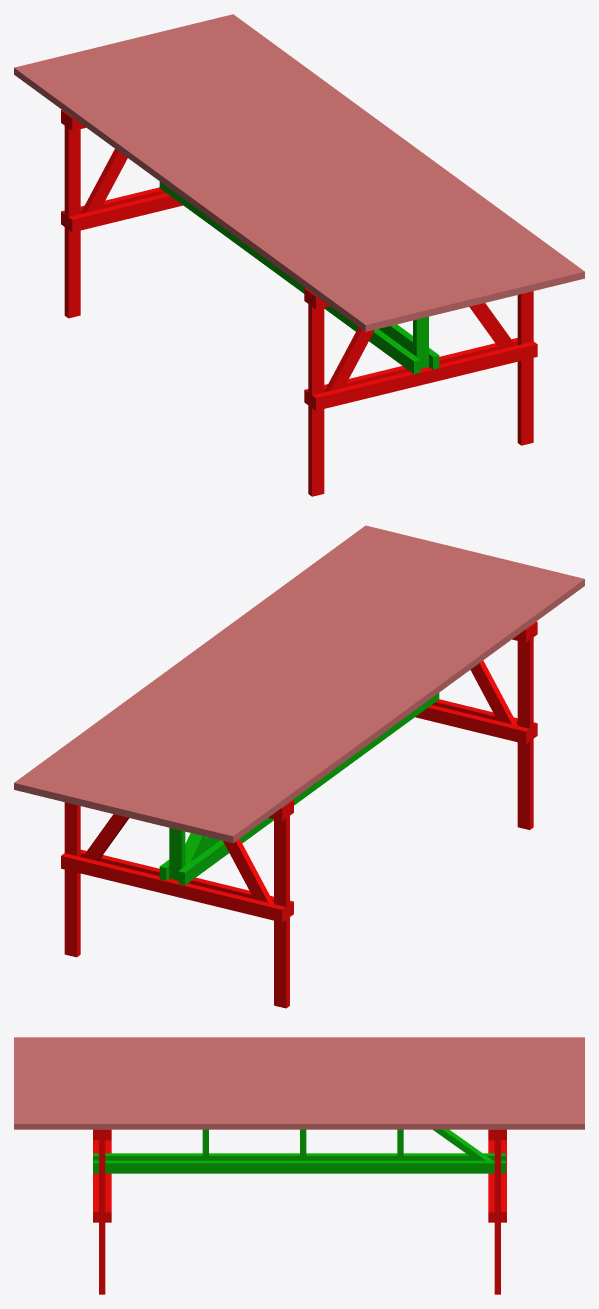
Rendered from result.glb.
3 views of the same model, one above another, from view 1: azimuth 30°, elevation 25°; view 2: azimuth 150°, elevation 25°; view 3: azimuth 270°, elevation 25° (orthographic). The views are drawn at different scales.
Visible parts, largest first — view 1: 5b5166a3-56cd-4252-9c86-ea0e06d2deec__Box, 6b45523d-2ed0-4708-9197-683f7d70f63e__undefined, 34135407-0bfd-4c22-b547-a4d0871ca563__undefined, 840a7245-6c75-4540-a6f2-1c2aac128855__undefined, b8811d37-f30e-48a0-ac2a-83d1932c9559__undefined, dd336ed4-5bf3-4410-842b-64d03da9f8a5__undefined, 2ae7d6b2-e6e8-489f-9129-77a260470783__undefined, 1afcaf74-240f-4f5e-94c8-39c9f8957b6c__undefined, 45c0e035-0442-42fb-a9a9-16f428242cf4__undefined, 5a2705e8-5dbb-4cc0-a018-b41e9aaeaff9__undefined, dfaa50bc-1c0a-43a4-9fd6-566c21eb1296__undefined, a3fc1de9-2959-485e-9653-fc8354d938ee__undefined (+18 smaller); view 2: 5b5166a3-56cd-4252-9c86-ea0e06d2deec__Box, dd336ed4-5bf3-4410-842b-64d03da9f8a5__undefined, dfaa50bc-1c0a-43a4-9fd6-566c21eb1296__undefined, 1afcaf74-240f-4f5e-94c8-39c9f8957b6c__undefined, 34135407-0bfd-4c22-b547-a4d0871ca563__undefined, b7eaf2cc-1c60-41af-b675-b557e6b92fe1__undefined, a3fc1de9-2959-485e-9653-fc8354d938ee__undefined, 2ae7d6b2-e6e8-489f-9129-77a260470783__undefined, 1926aa3f-db3e-4172-baf5-febe0cec9031__undefined, eb4a14b6-cc9e-427f-96b9-8b163eb1fb27__undefined, 7c2dc897-2e4b-4bca-a10d-7e80cdee631f__undefined, 5a2705e8-5dbb-4cc0-a018-b41e9aaeaff9__undefined (+17 smaller); view 3: 6b45523d-2ed0-4708-9197-683f7d70f63e__undefined, e4192ee4-b604-404b-b3cf-d612c6f6c943__strutH, dd336ed4-5bf3-4410-842b-64d03da9f8a5__undefined, dfaa50bc-1c0a-43a4-9fd6-566c21eb1296__undefined, eb4a14b6-cc9e-427f-96b9-8b163eb1fb27__undefined, 1afcaf74-240f-4f5e-94c8-39c9f8957b6c__undefined, 34135407-0bfd-4c22-b547-a4d0871ca563__undefined, 840a7245-6c75-4540-a6f2-1c2aac128855__undefined, b7eaf2cc-1c60-41af-b675-b557e6b92fe1__undefined, 5a2705e8-5dbb-4cc0-a018-b41e9aaeaff9__undefined, 4ff9c017-9dbe-4b74-8569-14915d633b3f__strutH, 5b5166a3-56cd-4252-9c86-ea0e06d2deec__Box (+15 smaller).
Part boxes in pixels (left/top/right/bottom): 5b5166a3-56cd-4252-9c86-ea0e06d2deec__Box: left=14, top=65, right=377, bottom=331; 6b45523d-2ed0-4708-9197-683f7d70f63e__undefined: left=221, top=14, right=584, bottom=281; 34135407-0bfd-4c22-b547-a4d0871ca563__undefined: left=136, top=35, right=499, bottom=301; 840a7245-6c75-4540-a6f2-1c2aac128855__undefined: left=185, top=23, right=548, bottom=290; b8811d37-f30e-48a0-ac2a-83d1932c9559__undefined: left=38, top=59, right=402, bottom=325; dd336ed4-5bf3-4410-842b-64d03da9f8a5__undefined: left=51, top=56, right=414, bottom=322; 2ae7d6b2-e6e8-489f-9129-77a260470783__undefined: left=87, top=47, right=450, bottom=313; 1afcaf74-240f-4f5e-94c8-39c9f8957b6c__undefined: left=124, top=38, right=487, bottom=305; 45c0e035-0442-42fb-a9a9-16f428242cf4__undefined: left=173, top=26, right=536, bottom=293; 5a2705e8-5dbb-4cc0-a018-b41e9aaeaff9__undefined: left=209, top=17, right=572, bottom=284; dfaa50bc-1c0a-43a4-9fd6-566c21eb1296__undefined: left=63, top=53, right=426, bottom=319; a3fc1de9-2959-485e-9653-fc8354d938ee__undefined: left=75, top=50, right=438, bottom=316; 5b5166a3-56cd-4252-9c86-ea0e06d2deec__Box: left=221, top=576, right=584, bottom=843; dd336ed4-5bf3-4410-842b-64d03da9f8a5__undefined: left=184, top=567, right=547, bottom=834; dfaa50bc-1c0a-43a4-9fd6-566c21eb1296__undefined: left=172, top=564, right=535, bottom=831; 1afcaf74-240f-4f5e-94c8-39c9f8957b6c__undefined: left=111, top=549, right=474, bottom=816; 34135407-0bfd-4c22-b547-a4d0871ca563__undefined: left=99, top=546, right=462, bottom=813; b7eaf2cc-1c60-41af-b675-b557e6b92fe1__undefined: left=38, top=531, right=401, bottom=798; a3fc1de9-2959-485e-9653-fc8354d938ee__undefined: left=160, top=561, right=523, bottom=828; 2ae7d6b2-e6e8-489f-9129-77a260470783__undefined: left=148, top=558, right=511, bottom=825; 1926aa3f-db3e-4172-baf5-febe0cec9031__undefined: left=135, top=555, right=499, bottom=822; eb4a14b6-cc9e-427f-96b9-8b163eb1fb27__undefined: left=123, top=552, right=486, bottom=819; 7c2dc897-2e4b-4bca-a10d-7e80cdee631f__undefined: left=87, top=543, right=450, bottom=810; 5a2705e8-5dbb-4cc0-a018-b41e9aaeaff9__undefined: left=26, top=528, right=389, bottom=795; 6b45523d-2ed0-4708-9197-683f7d70f63e__undefined: left=14, top=1119, right=584, bottom=1129; e4192ee4-b604-404b-b3cf-d612c6f6c943__strutH: left=93, top=1160, right=505, bottom=1173; dd336ed4-5bf3-4410-842b-64d03da9f8a5__undefined: left=14, top=1051, right=584, bottom=1056; dfaa50bc-1c0a-43a4-9fd6-566c21eb1296__undefined: left=14, top=1056, right=584, bottom=1061; eb4a14b6-cc9e-427f-96b9-8b163eb1fb27__undefined: left=14, top=1075, right=584, bottom=1080; 1afcaf74-240f-4f5e-94c8-39c9f8957b6c__undefined: left=14, top=1080, right=584, bottom=1085; 34135407-0bfd-4c22-b547-a4d0871ca563__undefined: left=14, top=1085, right=584, bottom=1090; 840a7245-6c75-4540-a6f2-1c2aac128855__undefined: left=14, top=1104, right=584, bottom=1109; b7eaf2cc-1c60-41af-b675-b557e6b92fe1__undefined: left=14, top=1109, right=584, bottom=1114; 5a2705e8-5dbb-4cc0-a018-b41e9aaeaff9__undefined: left=14, top=1114, right=584, bottom=1119; 4ff9c017-9dbe-4b74-8569-14915d633b3f__strutH: left=93, top=1153, right=505, bottom=1160; 5b5166a3-56cd-4252-9c86-ea0e06d2deec__Box: left=14, top=1037, right=584, bottom=1041.
Size of the model in its own units: 800 by 724 by 2200.
